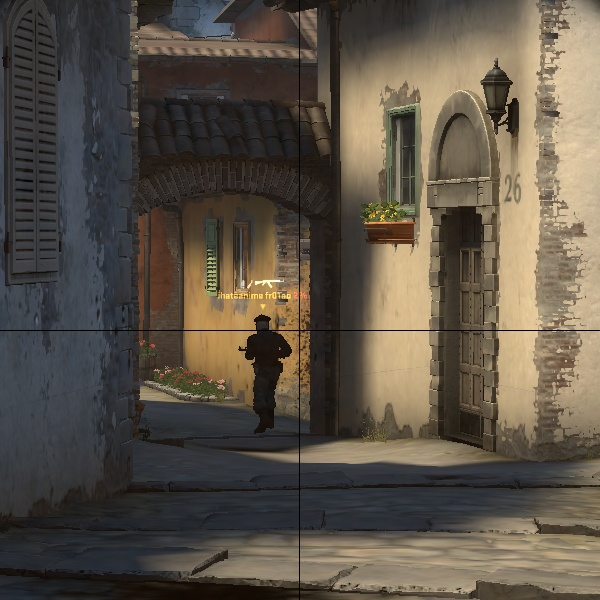t_body: (225, 309, 299, 436)
